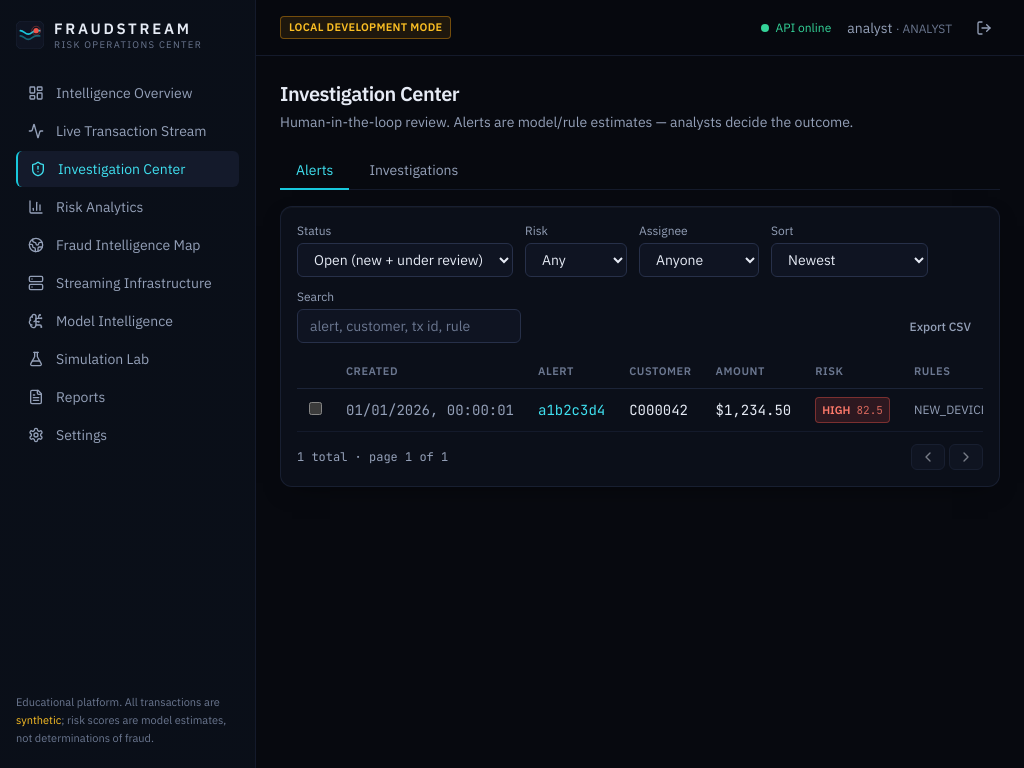
Scenario: investigation center › opens an investigation from selected alerts
Click the checkbox named "select a1b2c3d4-0000-0000-0000-000000000001".
click(316, 408)  # box [309,402,322,414]
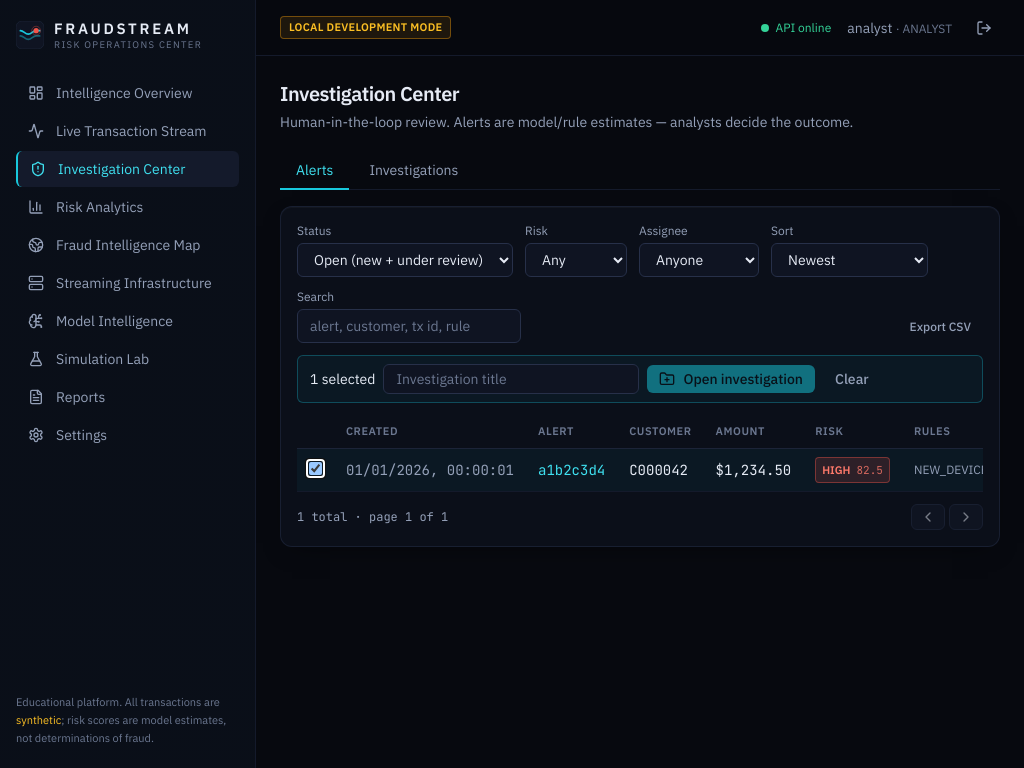
Type "Takeover case" into the field with test id "inv-title".
click(511, 379); type("Takeover case")  # box [383,364,639,394]
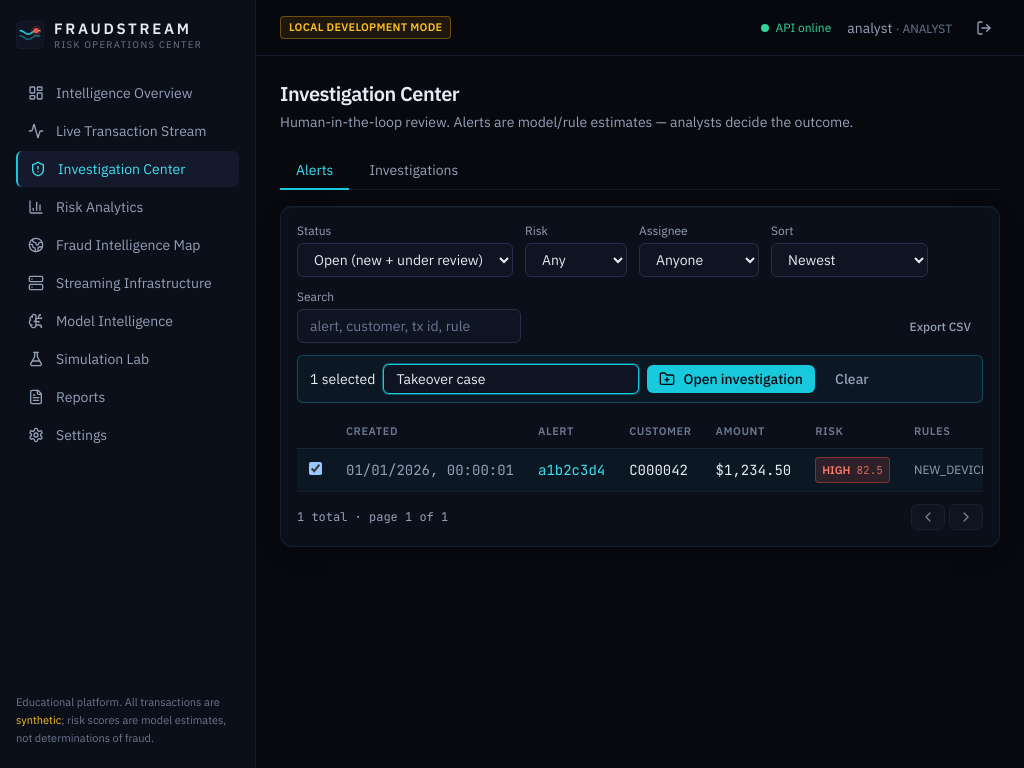
Click the button with test id "open-investigation".
click(731, 379)  # box [647,365,815,393]
(page scrolled)
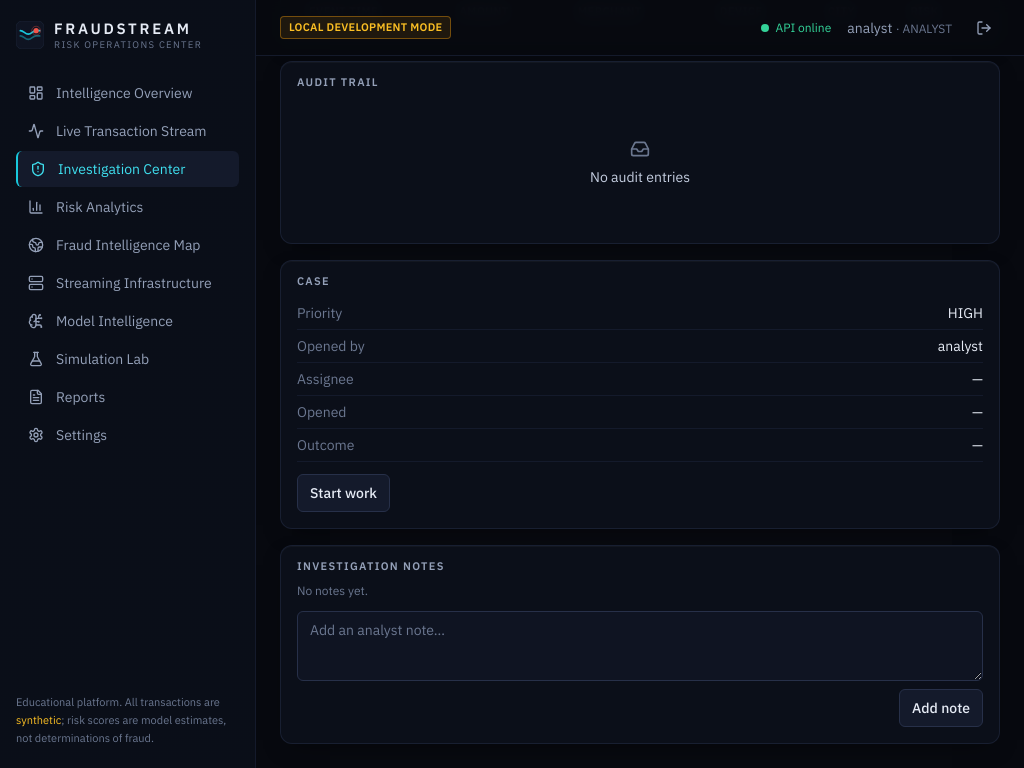
Check: the button "Start work" is shown, box [297,474,390,512]
